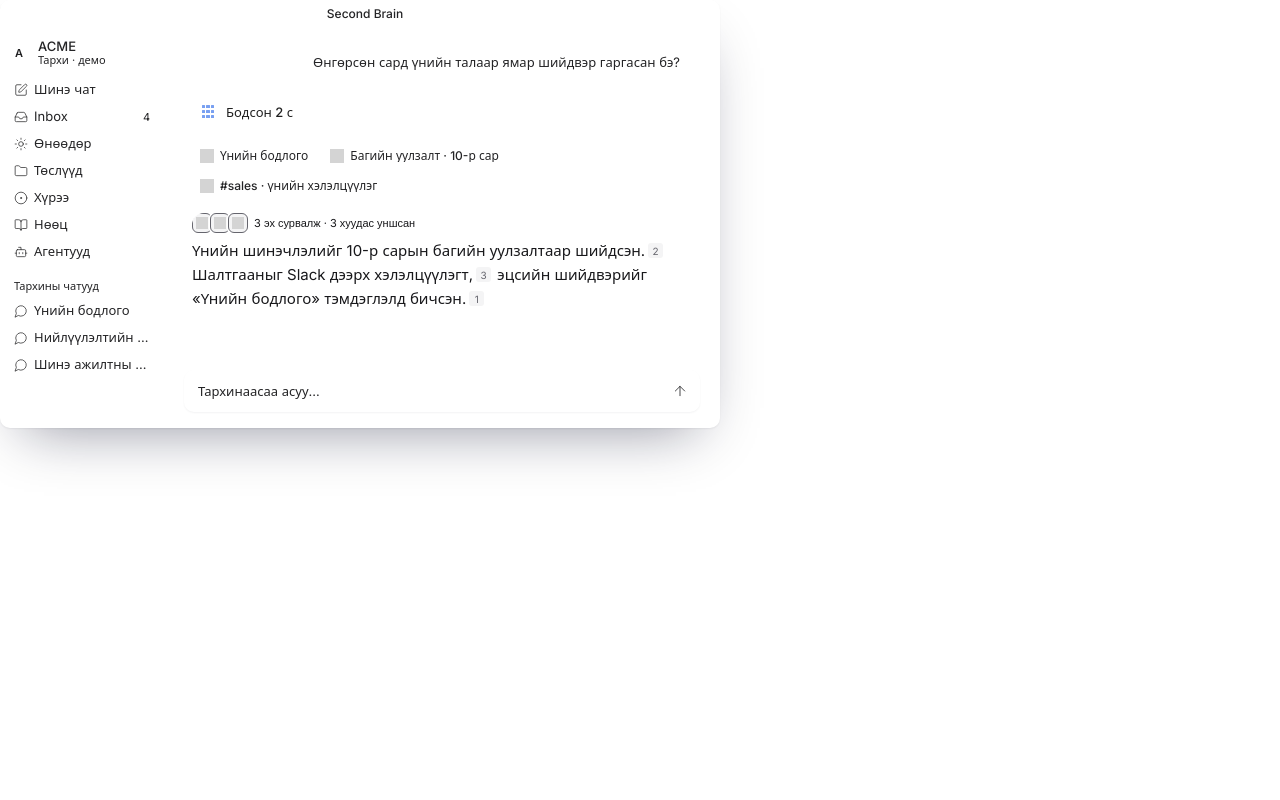
Test: AskWindow (lightweight) › shows the question as a sent message, the source chips and the cited answer
Check: the text "Өнгөрсөн сард үнийн талаар ямар шийдвэр гаргасан бэ?" is shown, box left=313, top=54, right=680, bottom=70
What coordinates should you click on to do the following:
click the button with class "sp-chip" showing "Багийн уулзалт · 10-р сар"
I would click on:
 (415, 156)
Its box is left=322, top=144, right=507, bottom=168.
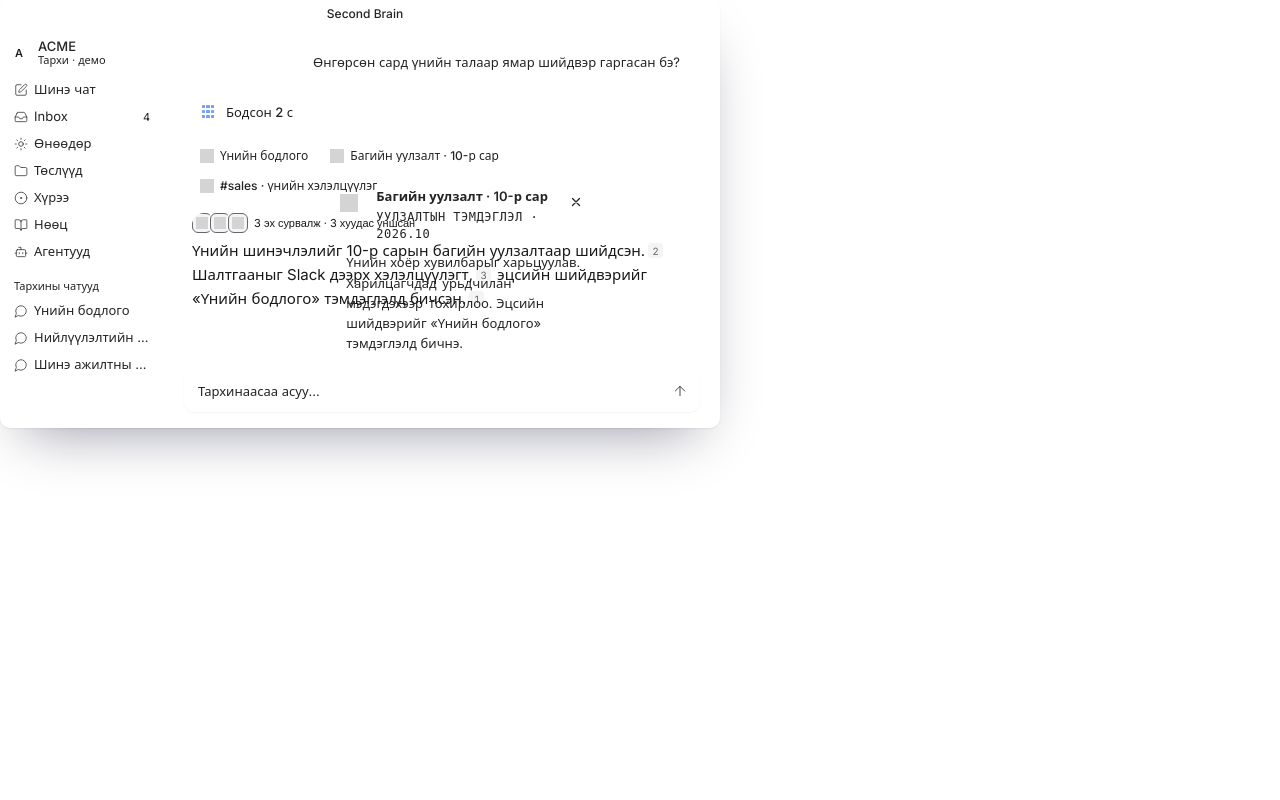
Check: the dialog "Багийн уулзалт · 10-р сар" is shown, box left=322, top=176, right=602, bottom=362
